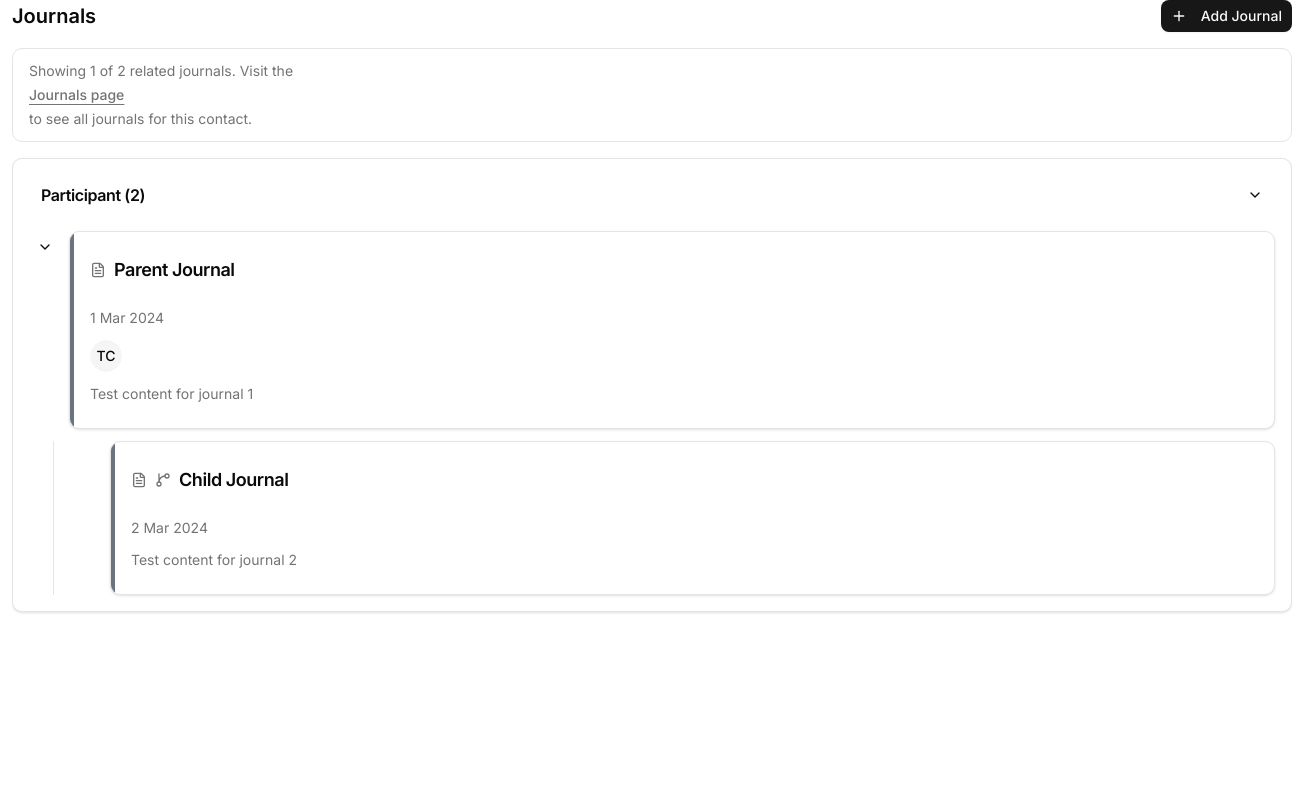
Test: ContactJournals › should allow collapsing and expanding child journals
The width and height of the screenshot is (1292, 800).
Check: the element with test id "journal-2" is shown, box [110,441,1275,595]
Click the button with test id "journalChildrenToggle-1" at (45, 247), box [29,231,61,263]
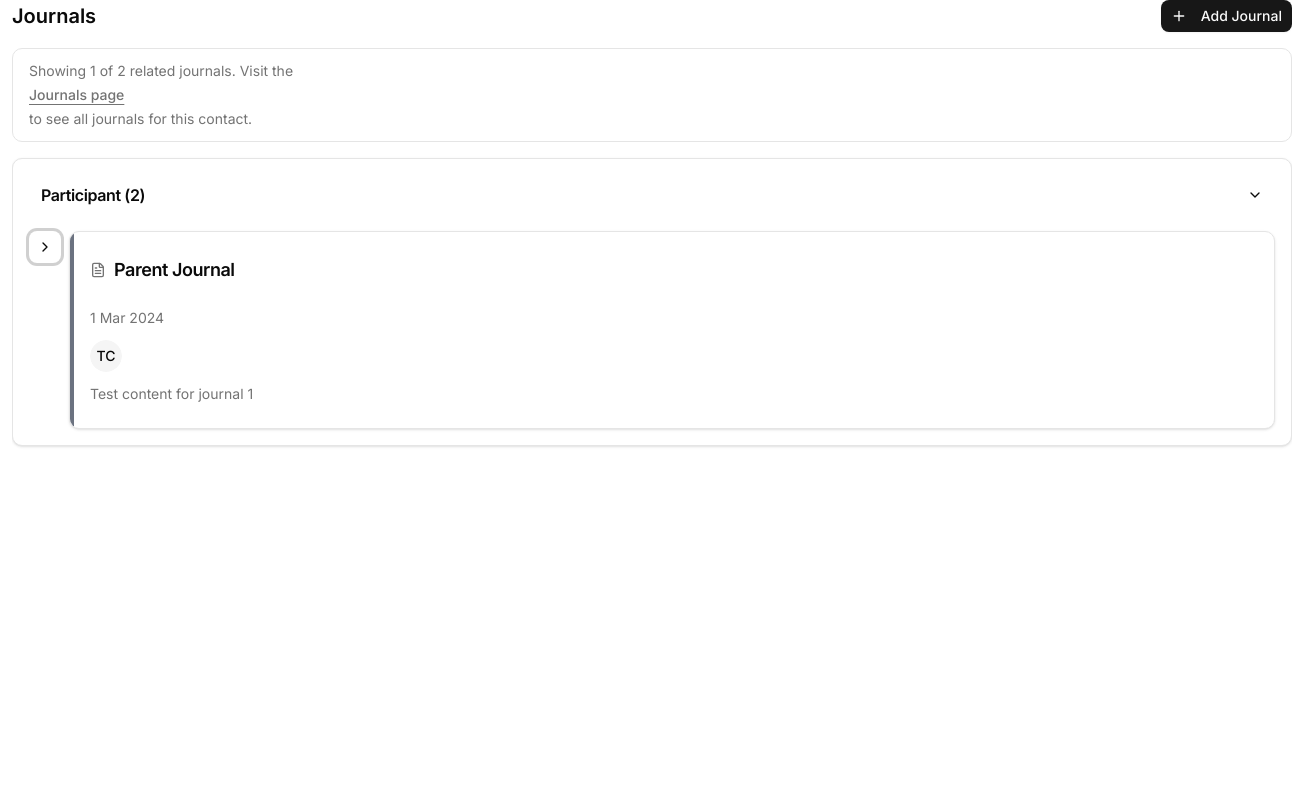
Check: the element with test id "journal-2" is gone
Click the button with test id "journalChildrenToggle-1" at (45, 247), box [29,231,61,263]
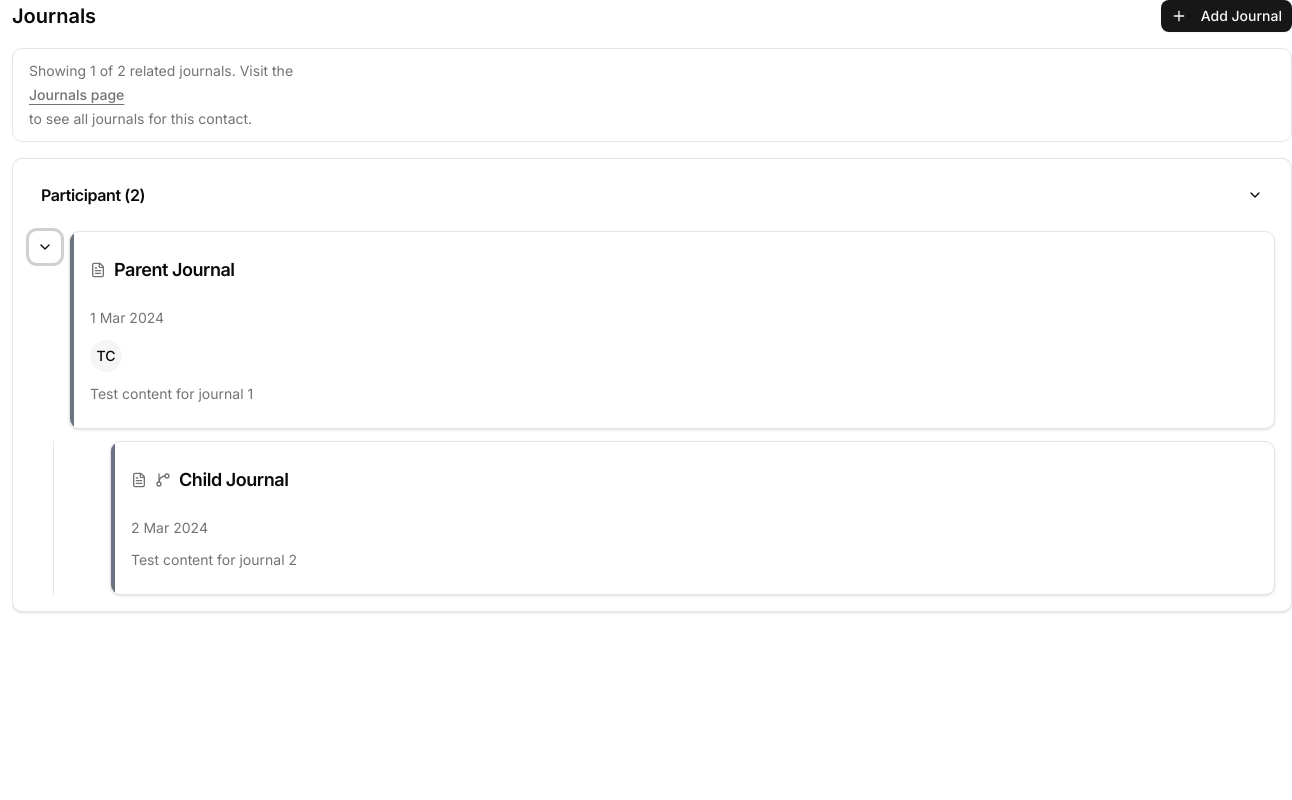
Check: the element with test id "journal-2" is shown, box [110,441,1275,595]
